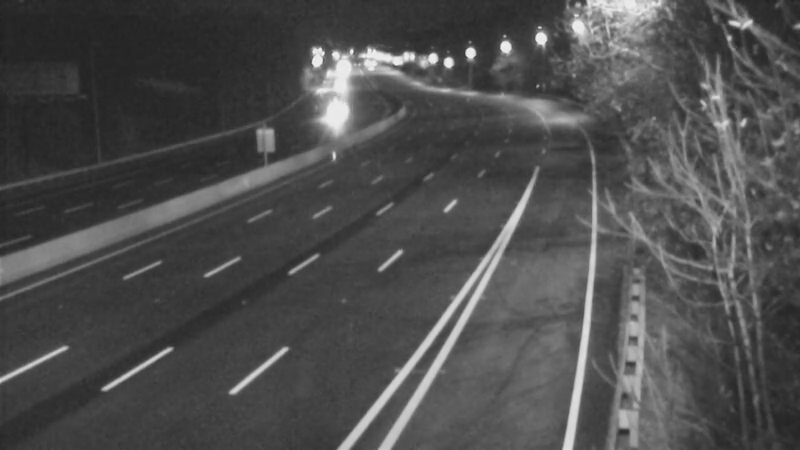vehicle: (307, 95, 357, 145)
